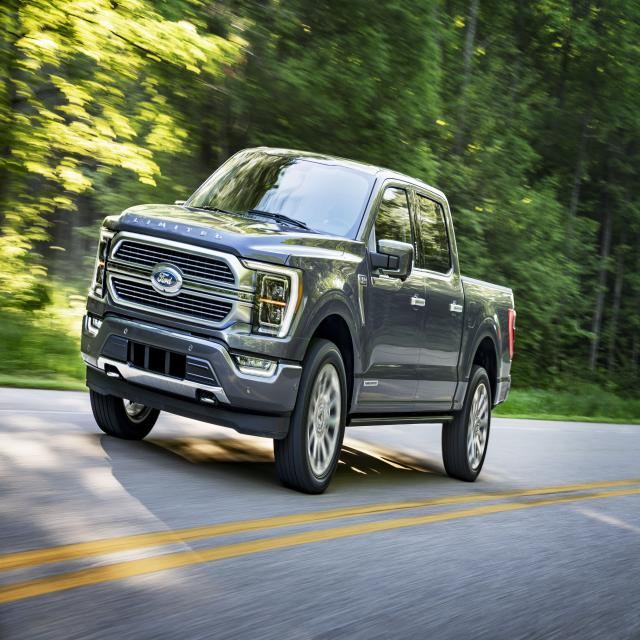truck: (72, 76, 521, 530)
